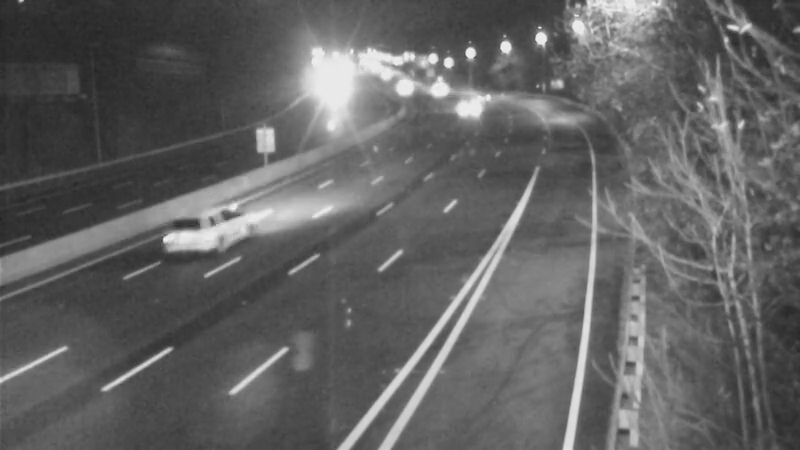vehicle: (155, 190, 235, 270), (379, 66, 429, 116), (412, 66, 462, 116), (451, 69, 501, 119), (440, 85, 490, 135), (302, 64, 352, 114)
